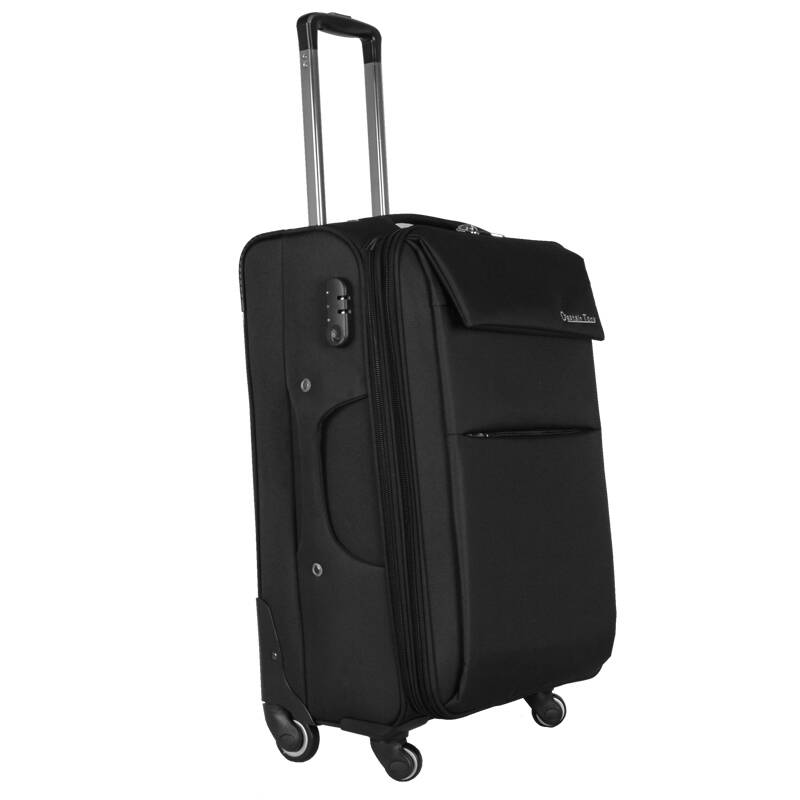luggage: (239, 10, 619, 783)
